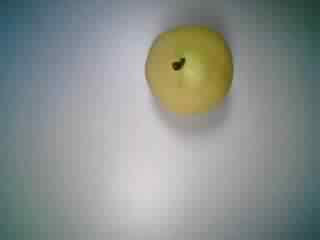pear: (132, 20, 242, 123)
